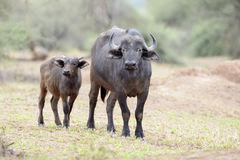Buffalo: (37, 29, 180, 132)
